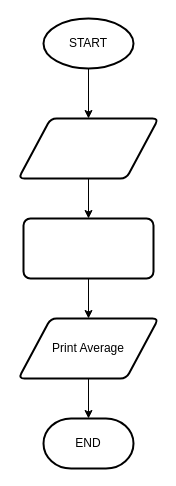
The diagram is 176 pixels wide and 486 high, and some of its shapes have lost their labels. Each missing label, with the centre of its shape:
Average = (num1 + num2) / 2: [88,248]
Take num1, num2: [88,148]
